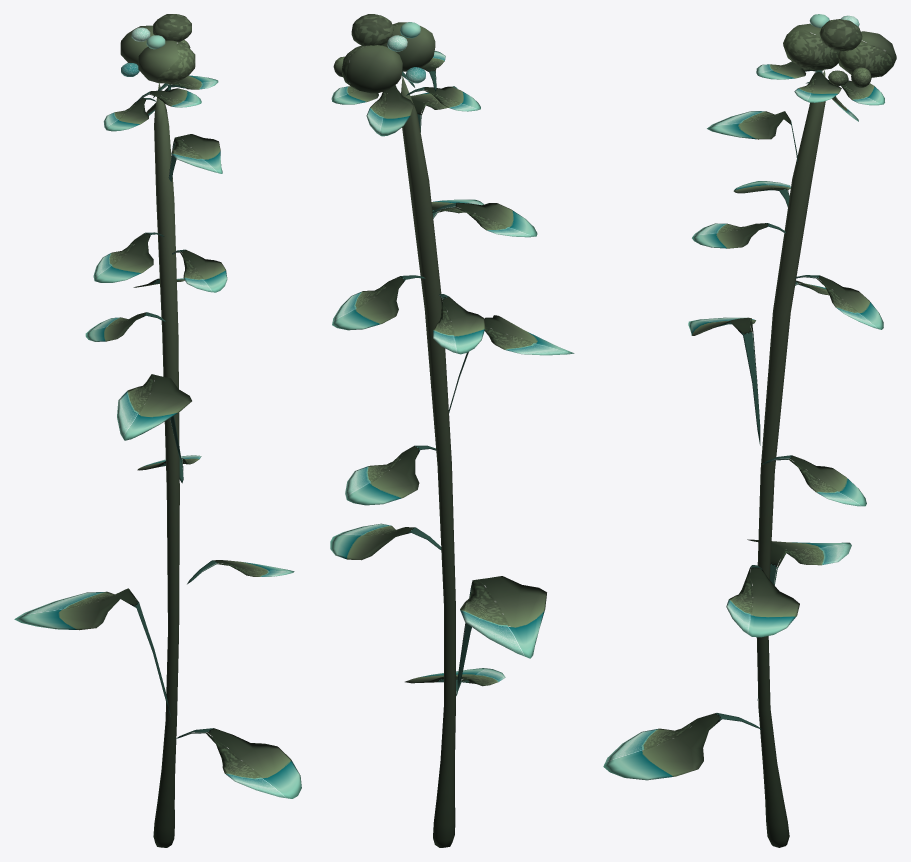
Rendered from sjogras.fbx.
3 renders of one model, left to right at view 1: azimuth 30°, elevation 25°; view 2: azimuth 150°, elevation 25°; view 3: azimuth 270°, elevation 25°, orthographic. The views are drawn at different scales.
Visible parts, largest first — view 1: Cube; view 2: Cube; view 3: Cube.
Part boxes in pixels (x1,y1,x2,y2): Cube: (14, 14, 301, 847); Cube: (330, 14, 574, 847); Cube: (603, 14, 896, 847).
Size of the model in its own units: 676 by 2211 by 696.
